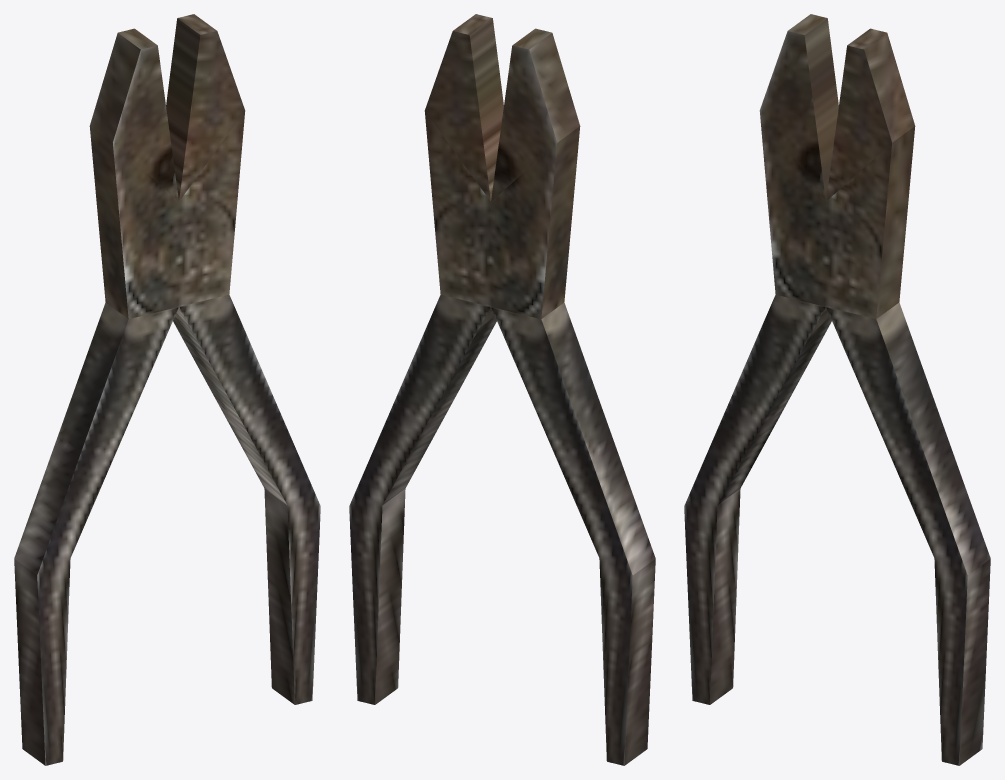
File: HeavyPlires.obj
3 views of the same model, side by side, from view 1: azimuth 30°, elevation 25°; view 2: azimuth 150°, elevation 25°; view 3: azimuth 330°, elevation 25° (orthographic).
Visible parts, largest first — view 1: Plires; view 2: Plires; view 3: Plires.
Boxes of the visible parts, x1,y1,x2,y2 form: Plires: (14,14,320,765); Plires: (349,14,655,765); Plires: (684,14,990,765).
Size of the model in its own units: 0.8693 by 2.03 by 0.1232.
1 material, 1 textured.
